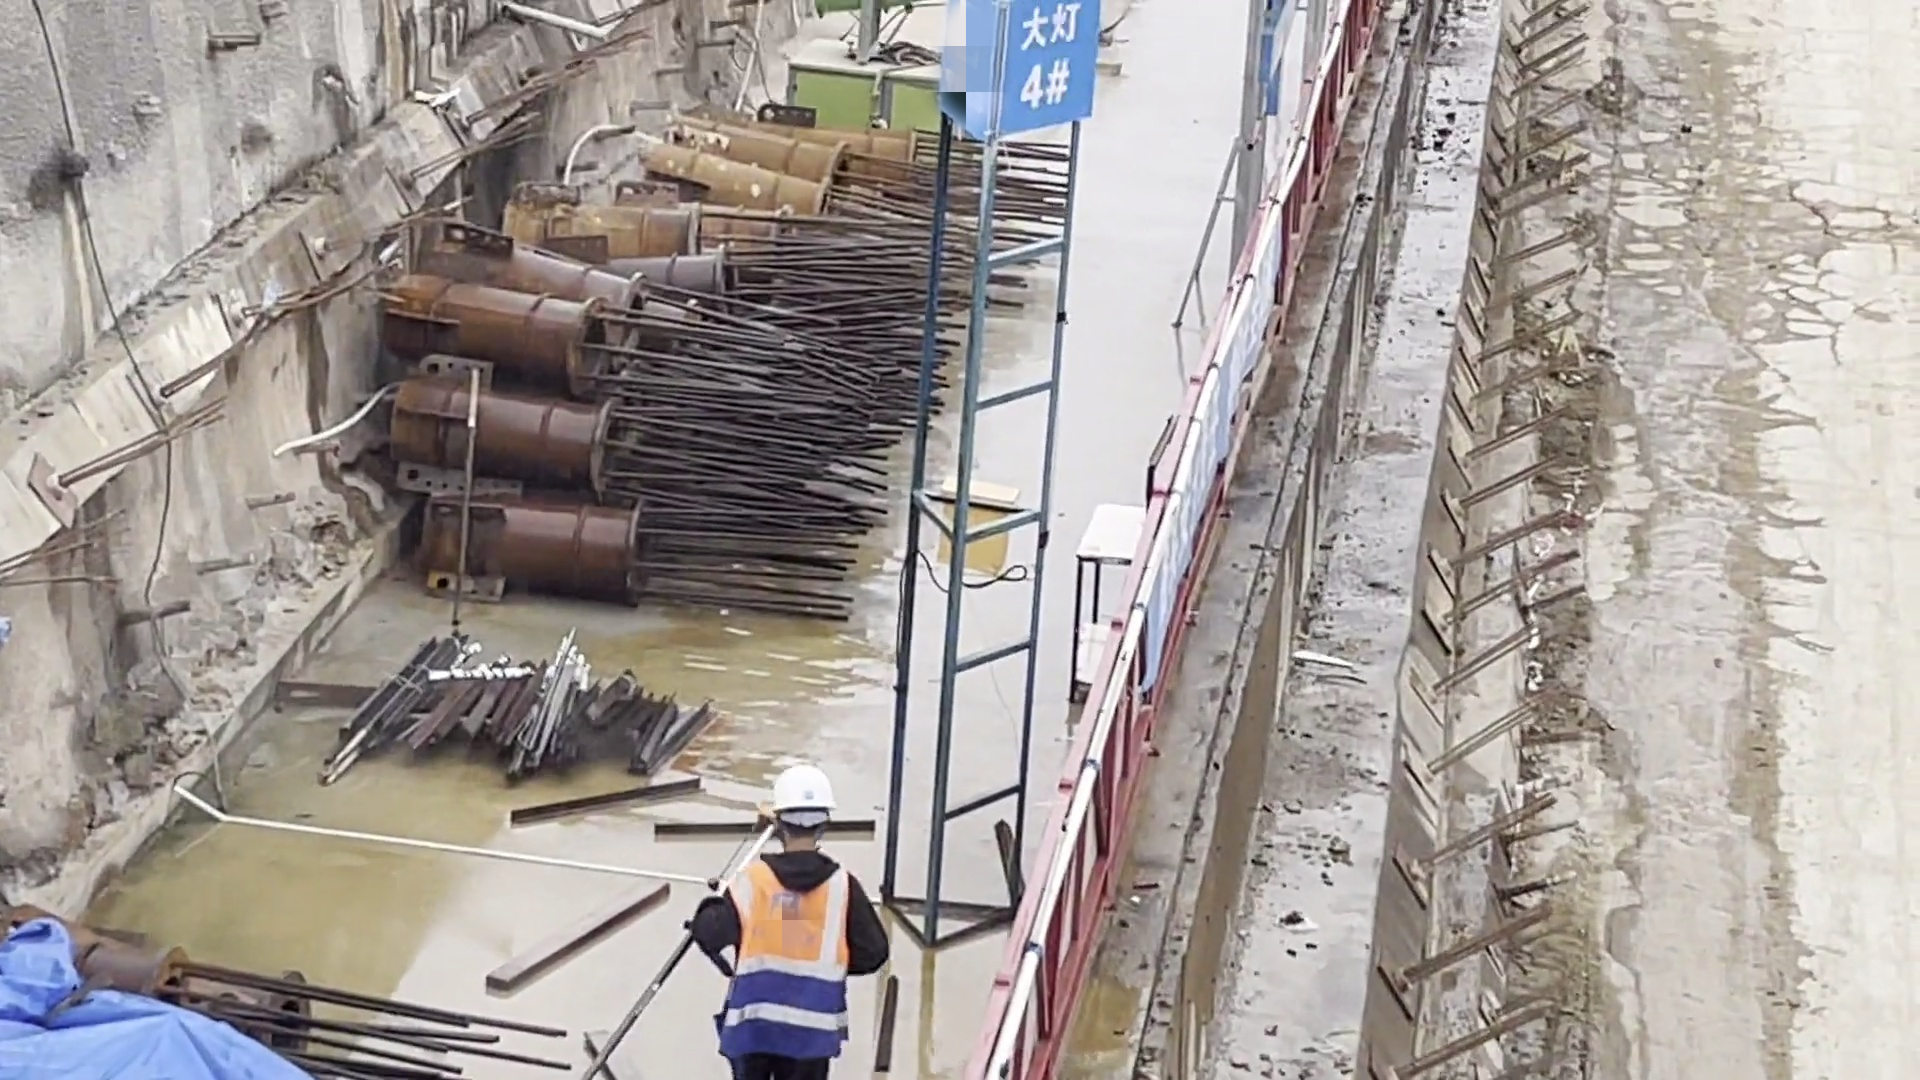ebox: (923, 470, 1025, 587)
fence: (960, 687, 1152, 1080), (1094, 431, 1217, 741), (1181, 196, 1296, 522), (1276, 1, 1371, 270)
helmet: (763, 760, 844, 831)
person: (686, 754, 898, 1080)
slogan: (1138, 189, 1257, 719), (930, 3, 1138, 159)
vest: (706, 857, 871, 1068)
